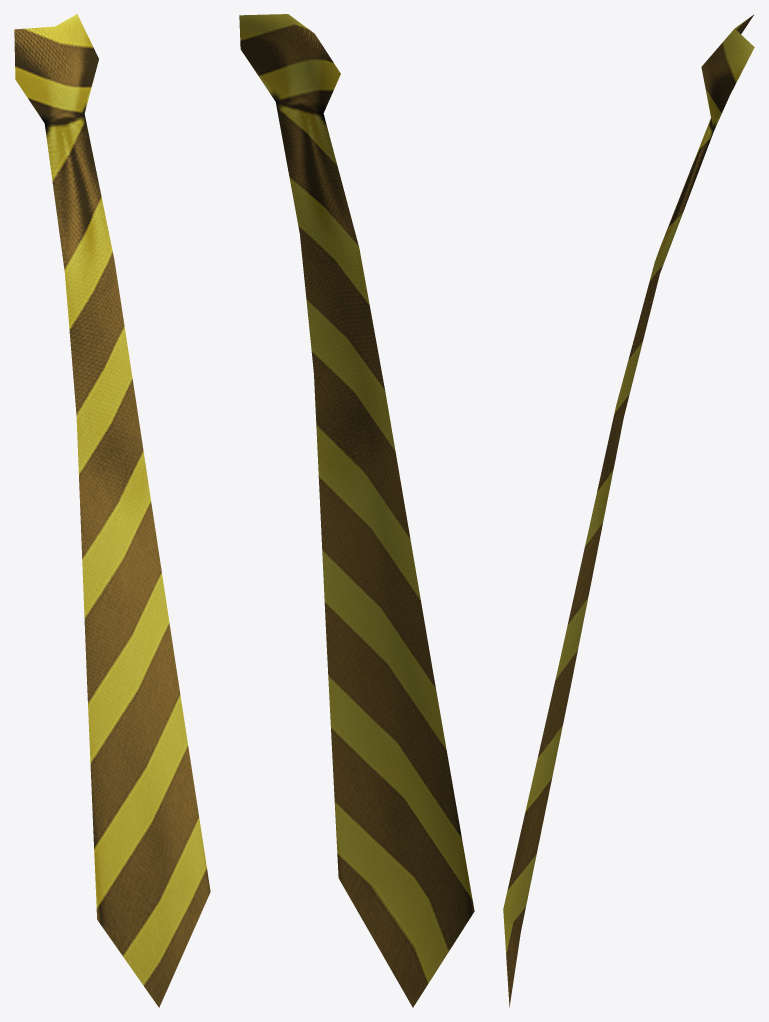
Rendered from TPTieL.fbx.
3 views of the same model, side by side, from view 1: azimuth 30°, elevation 25°; view 2: azimuth 150°, elevation 25°; view 3: azimuth 270°, elevation 25° (orthographic). The views are drawn at different scales.
Parts seen in each view (by area): view 1: TPTieL; view 2: TPTieL; view 3: TPTieL.
Boxes of the visible parts, box(x1,y1,x2,y2) form: TPTieL: box(14, 14, 210, 1007); TPTieL: box(239, 14, 474, 1007); TPTieL: box(503, 14, 754, 1007).
Size of the model in its own units: 5.31 by 40.45 by 9.41.
1 material, 1 textured.
